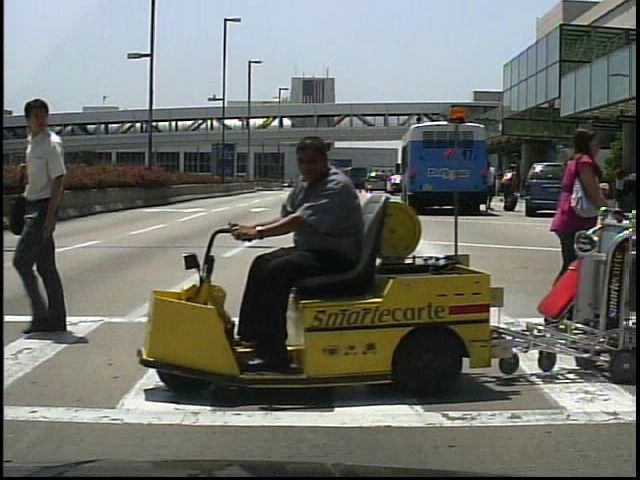person: (234, 134, 373, 373), (19, 100, 100, 336), (542, 121, 606, 354), (480, 162, 500, 216), (580, 163, 601, 214), (502, 163, 521, 218)
